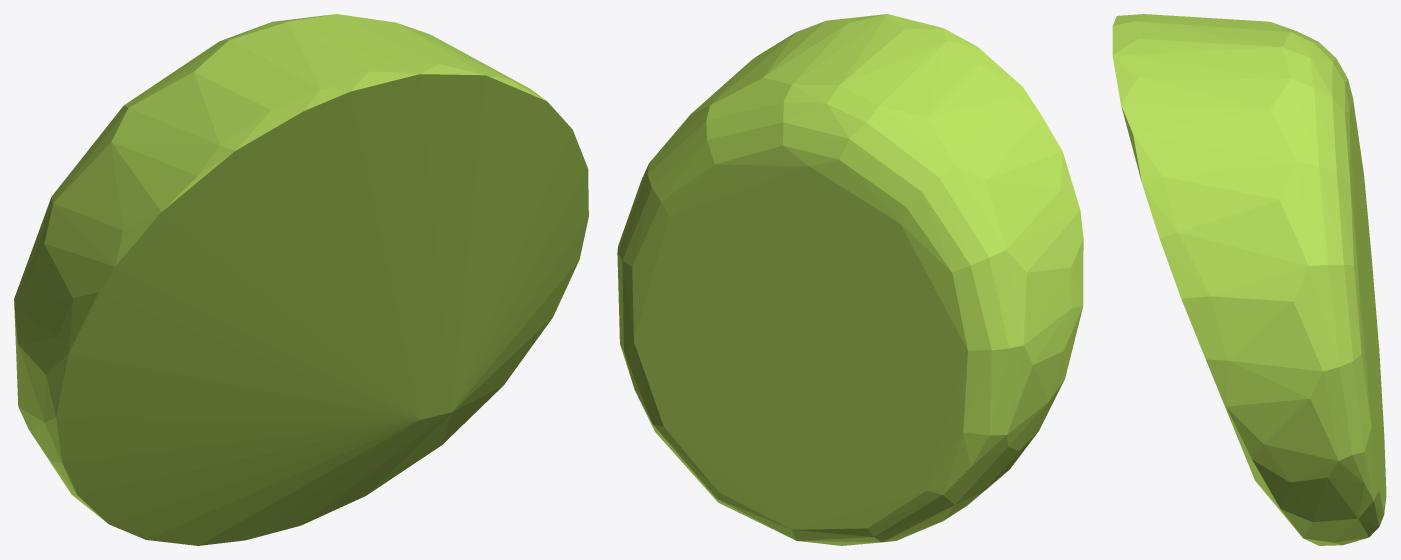
File: ur10e_link_4_coll_1.dae
3 renders of one model, left to right at view 1: azimuth 30°, elevation 25°; view 2: azimuth 150°, elevation 25°; view 3: azimuth 270°, elevation 25°, orthographic. The views are drawn at different scales.
Parts seen in each view (by area): view 1: node; view 2: node; view 3: node.
Boxes of the visible parts, box(x1,y1,x2,y2) form: node: box(14, 14, 588, 545); node: box(617, 14, 1083, 545); node: box(1112, 14, 1386, 545).
Bounding box in the file's own units: 0.0911 × 0.0909 × 0.0468.
